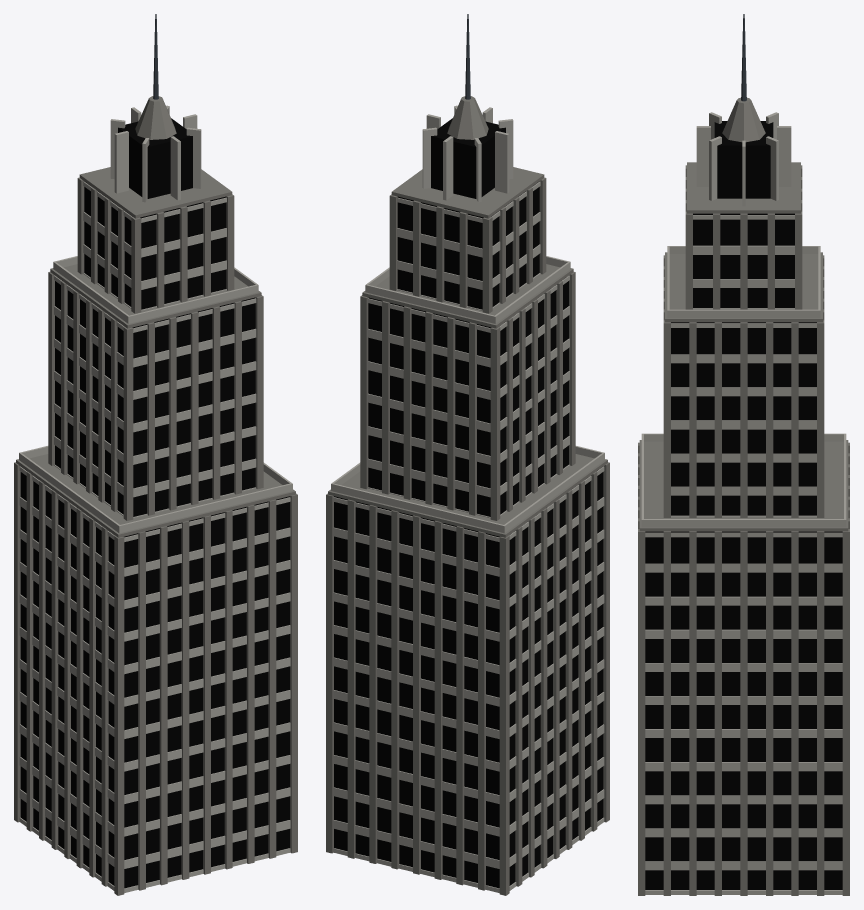
The model's file is env_city_deco.fbx.
3 views of the same model, side by side, from view 1: azimuth 30°, elevation 25°; view 2: azimuth 150°, elevation 25°; view 3: azimuth 270°, elevation 25° (orthographic).
Visible parts, largest first — view 1: env_city_deco; view 2: env_city_deco; view 3: env_city_deco.
Part boxes in pixels (x1=…): env_city_deco: x1=14, y1=14, x2=297, y2=895; env_city_deco: x1=326, y1=14, x2=609, y2=895; env_city_deco: x1=638, y1=14, x2=849, y2=895.
Size of the model in its own units: 5800 by 25300 by 5800.
